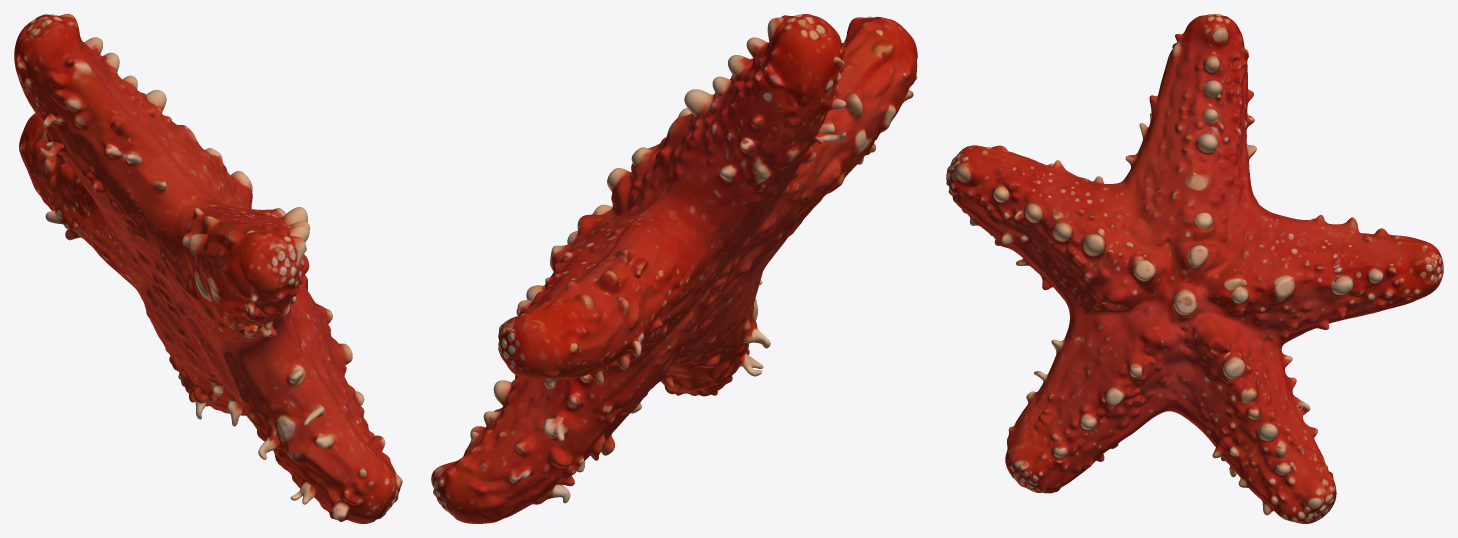
Rendered from star_big_red.glb.
3 renders of one model, left to right at view 1: azimuth 30°, elevation 25°; view 2: azimuth 150°, elevation 25°; view 3: azimuth 270°, elevation 25°, orthographic. The views are drawn at different scales.
Parts seen in each view (by area): view 1: tripo_node_f548cd91-d9f5-49fc-becc-5d4f6ada0c52; view 2: tripo_node_f548cd91-d9f5-49fc-becc-5d4f6ada0c52; view 3: tripo_node_f548cd91-d9f5-49fc-becc-5d4f6ada0c52.
Boxes of the visible parts, left/top/right/bottom form: tripo_node_f548cd91-d9f5-49fc-becc-5d4f6ada0c52: left=14, top=14, right=402, bottom=523; tripo_node_f548cd91-d9f5-49fc-becc-5d4f6ada0c52: left=431, top=14, right=917, bottom=523; tripo_node_f548cd91-d9f5-49fc-becc-5d4f6ada0c52: left=946, top=14, right=1443, bottom=523.
Bounding box in the file's own units: 0.6123 × 0.8974 × 1.
Materials: 1 (1 with a texture image).
